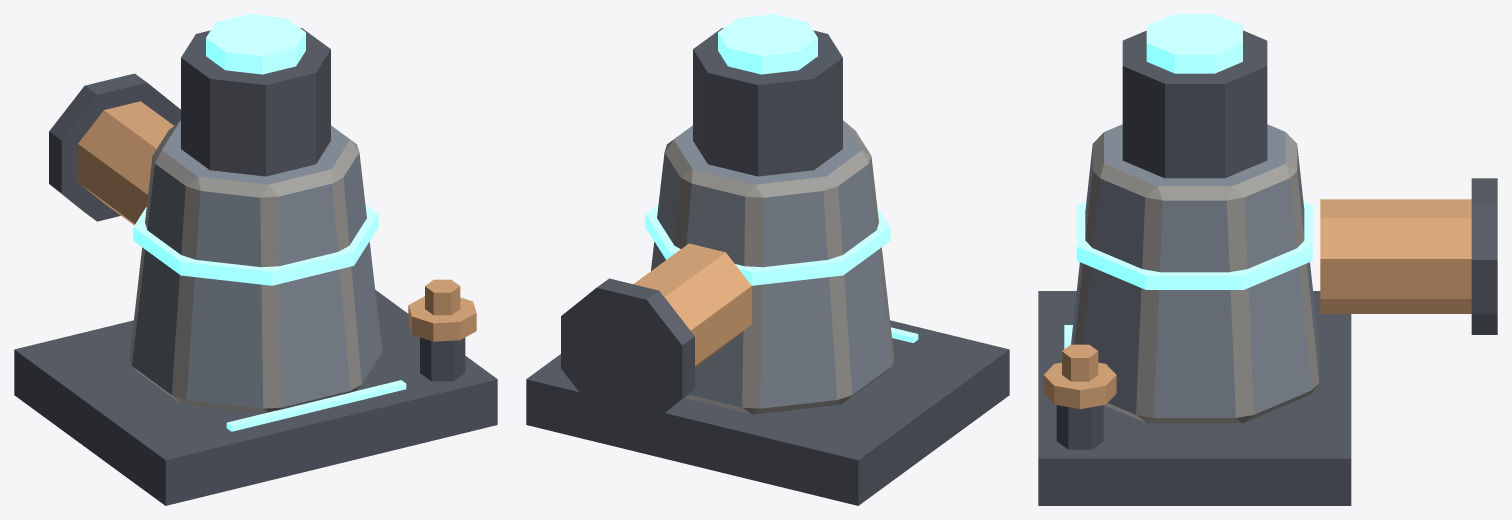
File: bomba_sem_textura.glb
3 views of the same model, side by side, from view 1: azimuth 30°, elevation 25°; view 2: azimuth 150°, elevation 25°; view 3: azimuth 270°, elevation 25° (orthographic). The views are drawn at different scales.
Parts seen in each view (by area): view 1: bomba_corpo, bomba_cabecote; view 2: bomba_corpo, bomba_cabecote; view 3: bomba_corpo, bomba_cabecote.
Part boxes in pixels (x1,y1,x2,y2): bomba_corpo: (14, 73, 497, 505); bomba_cabecote: (181, 14, 330, 176); bomba_corpo: (526, 120, 1009, 505); bomba_cabecote: (693, 14, 842, 176); bomba_corpo: (1038, 124, 1497, 505); bomba_cabecote: (1122, 14, 1267, 178).
Size of the model in its own units: 0.76 by 0.82 by 0.88.
